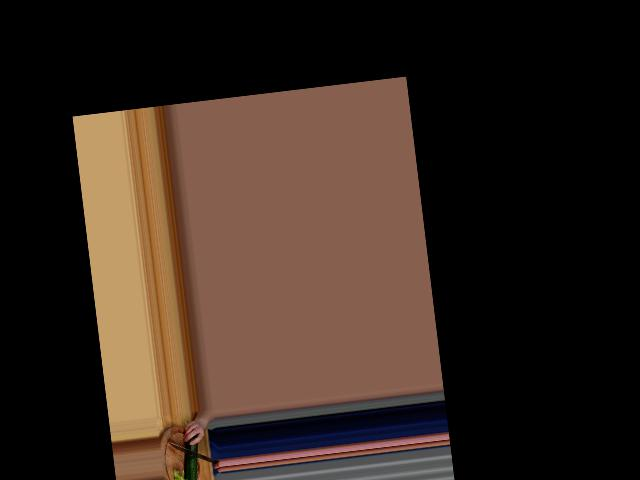cucumber: (180, 434, 203, 480)
